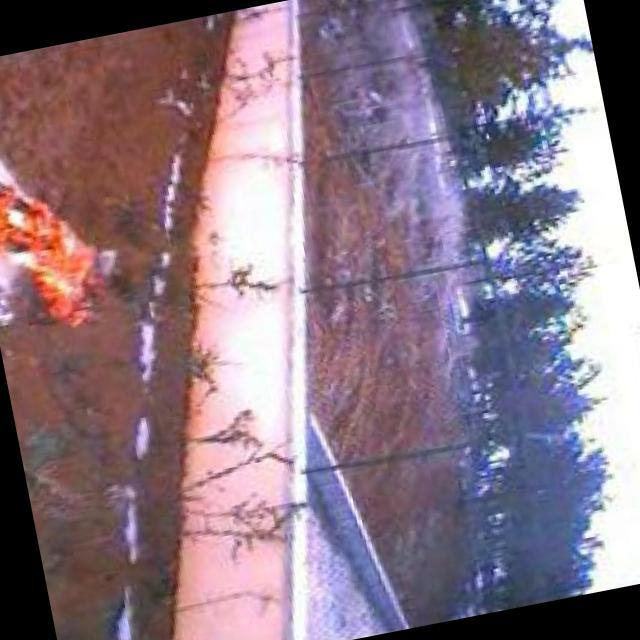Fire: (1, 159, 121, 345)
